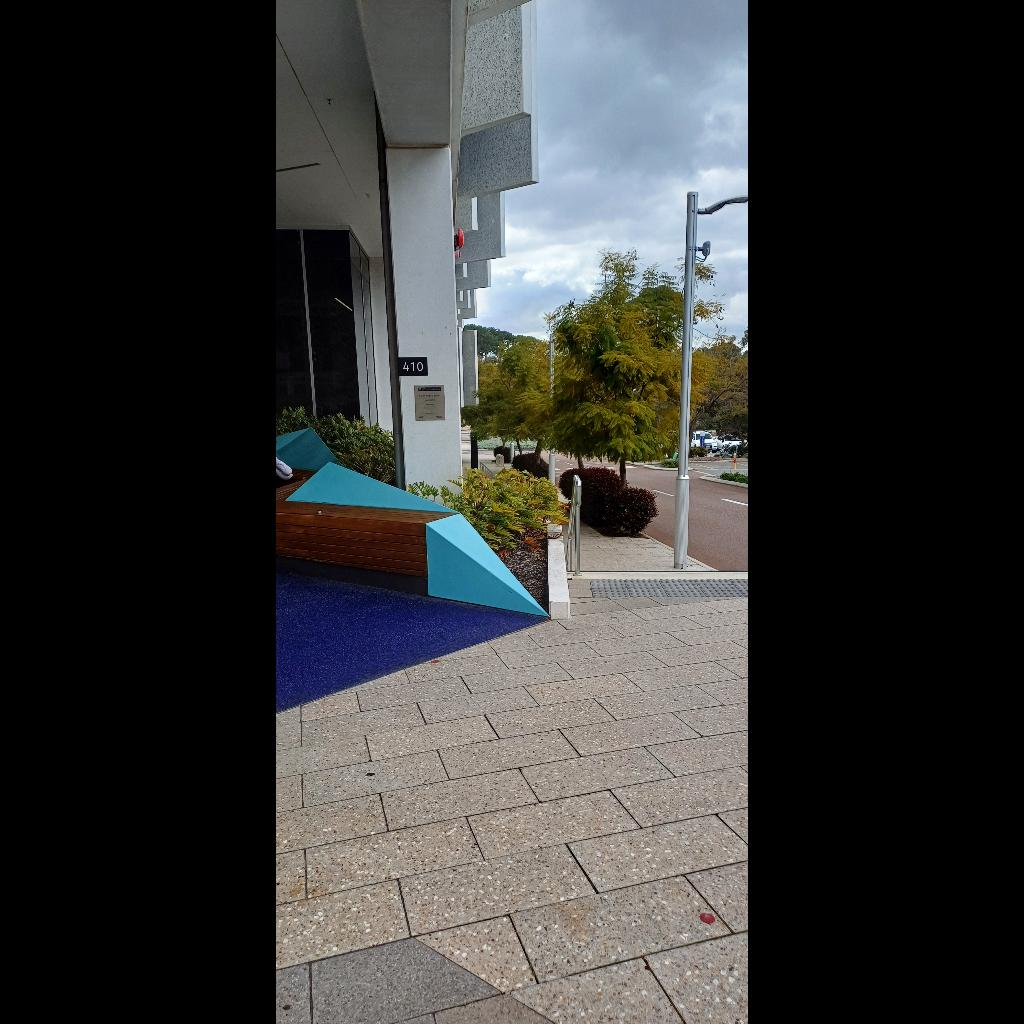BuildingCodes: (395, 357, 429, 375)
